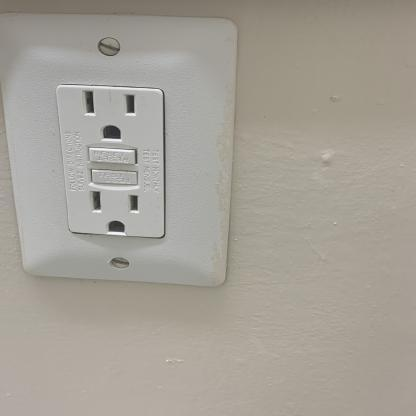OUTLET: (0, 13, 230, 288)
